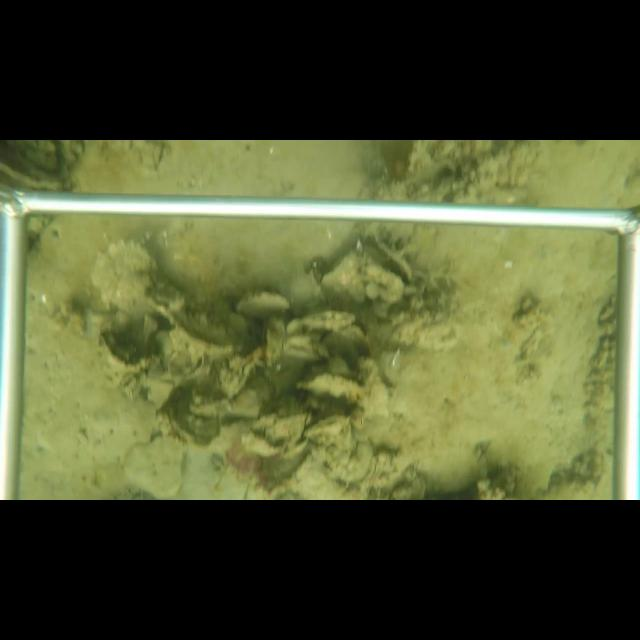Oyster-Closed: (89, 237, 161, 308), (120, 435, 188, 498), (315, 249, 364, 300), (232, 284, 293, 320)
Oyster-Open: (360, 230, 414, 285)
